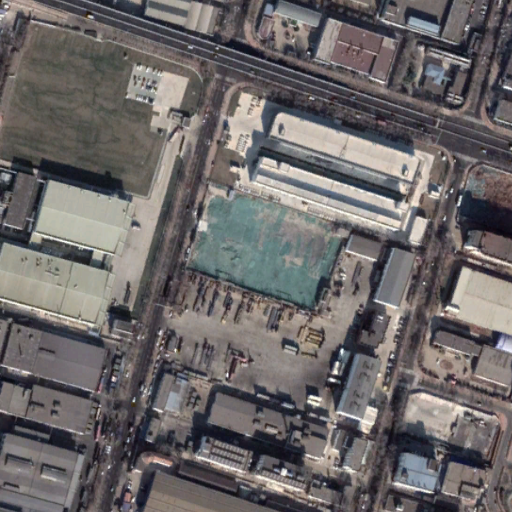cw: (184, 188, 349, 308)
